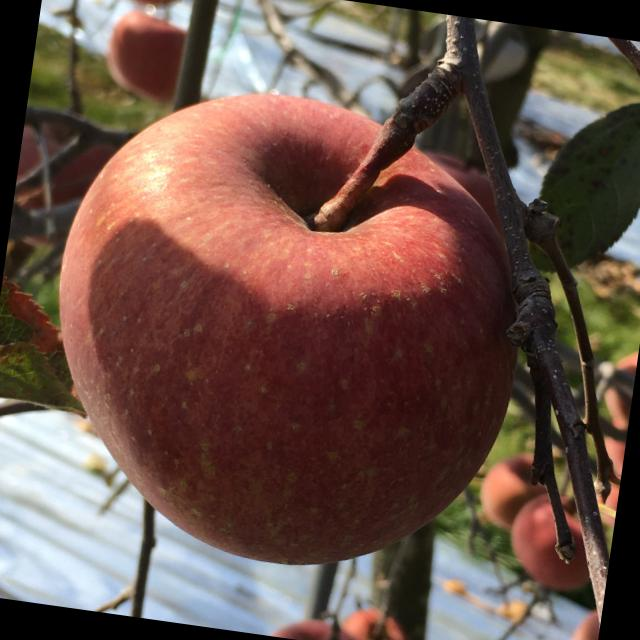fresh: (15, 60, 560, 603)
